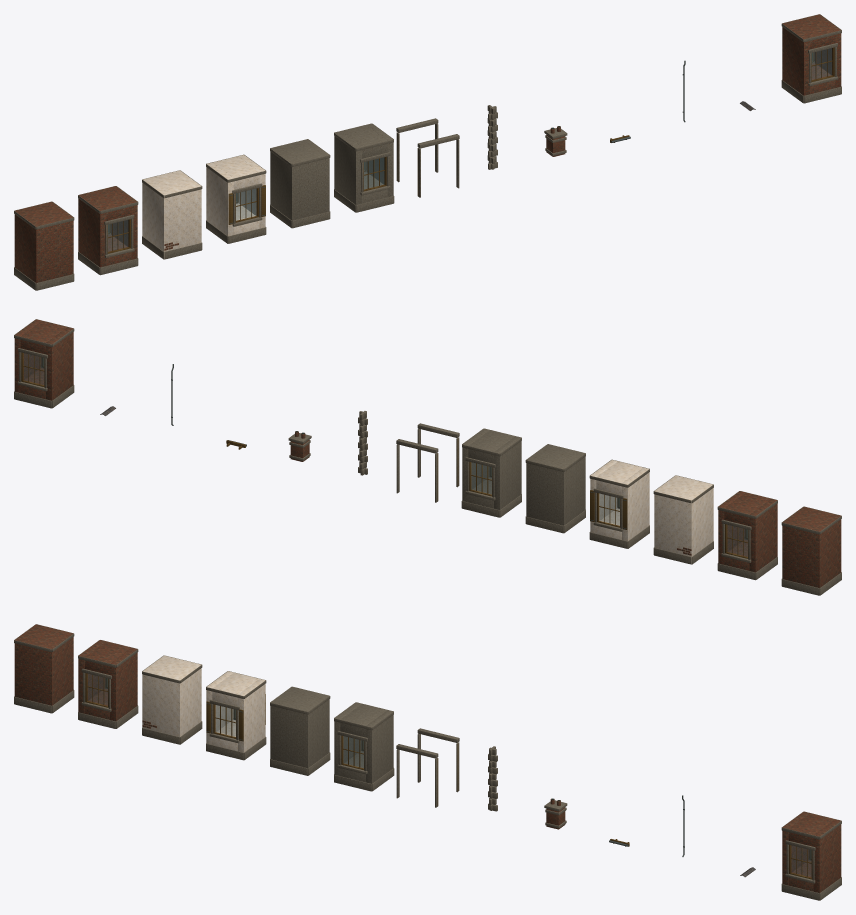
The model's file is architecture.glb.
The picture shows the model from 3 angles, top to bottom: view 1: azimuth 30°, elevation 25°; view 2: azimuth 150°, elevation 25°; view 3: azimuth 330°, elevation 25°; orthographic projection.
Visible parts, largest first — view 1: wall_stone, window_brick, wall_brick, window, window_plaster, wall_plaster, window_stone, doorway, corner, chimney; view 2: wall_stone, window_brick, wall_brick, window, window_plaster, wall_plaster, window_stone, doorway, corner, chimney; view 3: wall_plaster, wall_stone, window_plaster, wall_brick, window, window_brick, window_stone, doorway, corner, chimney.
Boxes of the visible parts, x1,y1,x2,y2 form: wall_stone: (270, 139, 330, 228); window_brick: (78, 186, 138, 275); wall_brick: (14, 201, 74, 290); window: (781, 14, 841, 103); window_plaster: (206, 154, 266, 243); wall_plaster: (142, 170, 202, 259); window_stone: (334, 123, 394, 212); doorway: (396, 118, 459, 197); corner: (487, 105, 497, 169); chimney: (544, 126, 567, 156); wall_stone: (525, 444, 585, 533); window_brick: (717, 491, 777, 580); wall_brick: (781, 506, 841, 595); window: (14, 319, 74, 408); window_plaster: (589, 459, 649, 548); wall_plaster: (653, 475, 713, 564); window_stone: (461, 428, 521, 517); doorway: (396, 423, 459, 502); corner: (358, 411, 367, 475); chimney: (288, 431, 311, 461); wall_plaster: (142, 655, 202, 744); wall_stone: (270, 686, 330, 775); window_plaster: (206, 671, 266, 760); wall_brick: (14, 624, 74, 713); window: (781, 811, 841, 900); window_brick: (78, 640, 138, 728); window_stone: (334, 702, 394, 791); doorway: (396, 728, 459, 807); corner: (488, 746, 497, 811); chimney: (544, 798, 567, 829).
Size of the model in its own units: 42.86 by 3.42 by 2.23.
8 materials, 5 textured.
